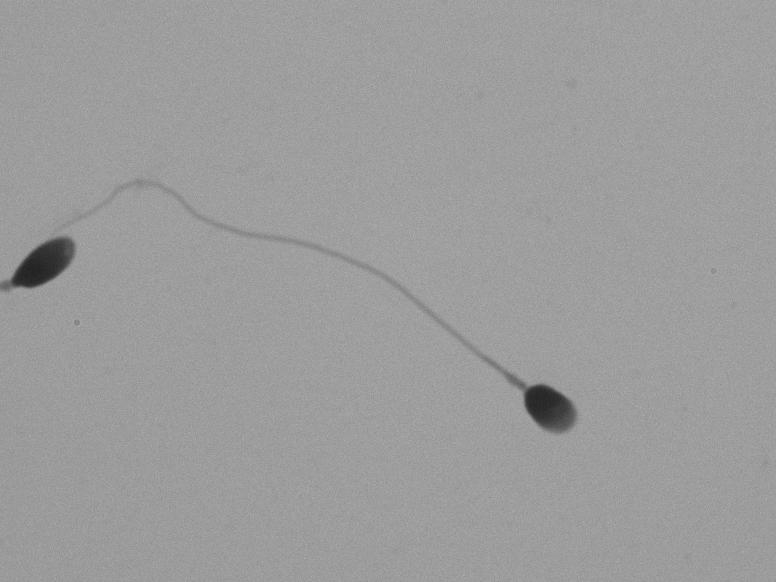Abnormal: (3, 164, 81, 378)
Normal: (95, 134, 646, 458)
